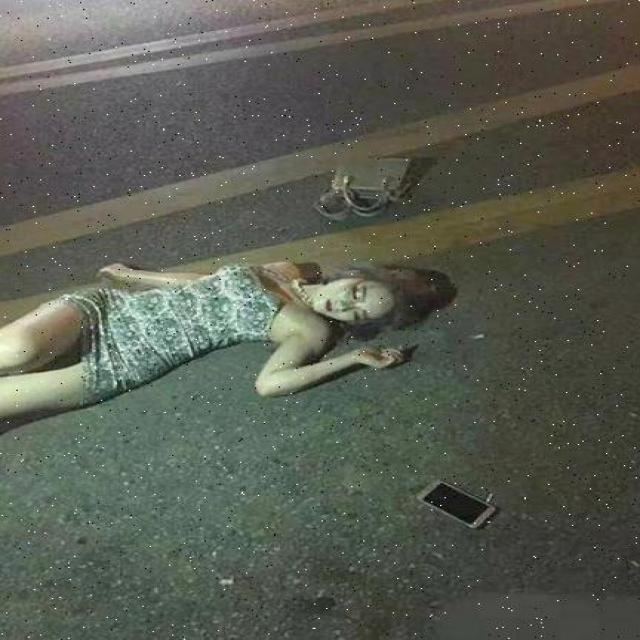fall: (0, 250, 436, 430)
